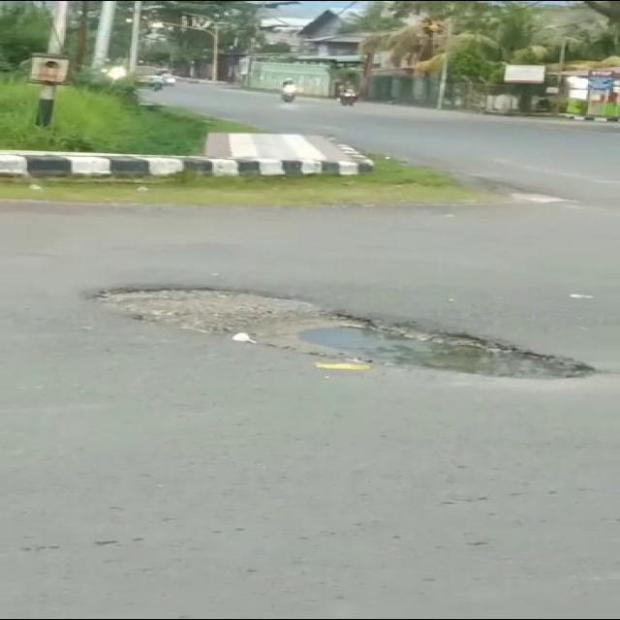lubang: (98, 288, 596, 379)
